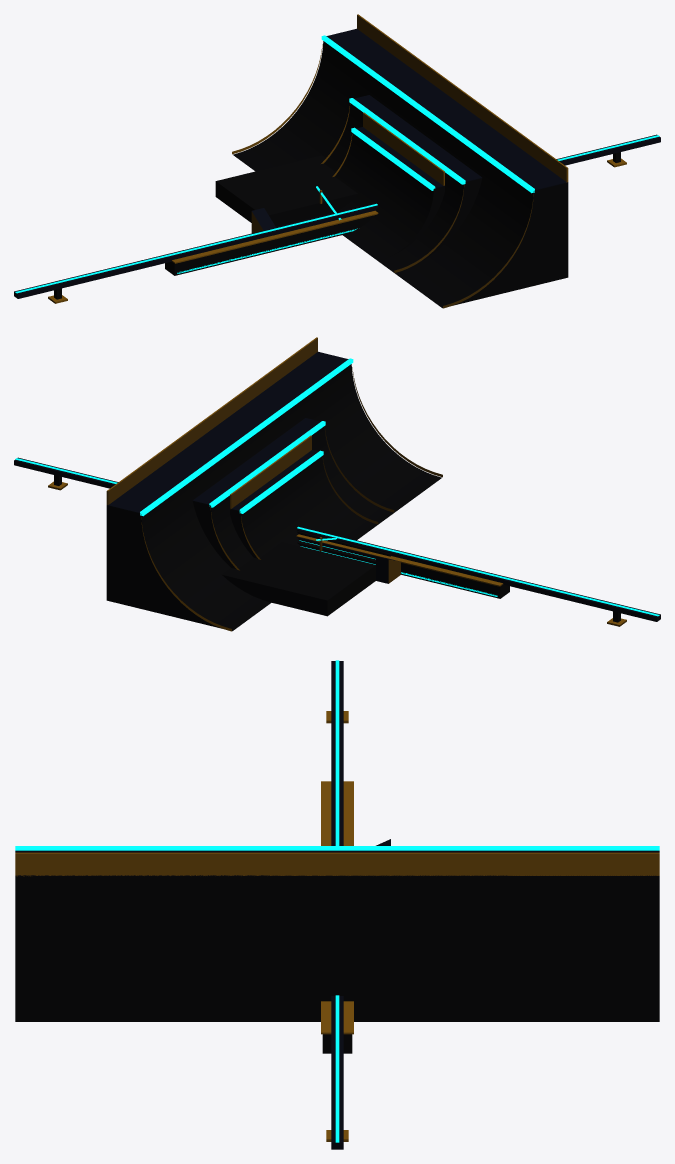
File: shaddai_hoverskate_kit_v01.glb
3 renders of one model, top to bottom at view 1: azimuth 30°, elevation 25°; view 2: azimuth 150°, elevation 25°; view 3: azimuth 270°, elevation 25°, orthographic. The views are drawn at different scales.
Parts seen in each view (by area): view 1: park_bank_26, park_kicker_10, park_spine_bank_14, park_stair_set, park_magnet_rail, park_ledge; view 2: park_bank_26, park_kicker_10, park_stair_set, park_spine_bank_14, park_magnet_rail, park_ledge; view 3: park_bank_26, park_magnet_rail, park_ledge.
Boxes of the visible parts, x1=… form: park_bank_26: x1=232, y1=14, x2=568, y2=308; park_kicker_10: x1=332, y1=112, x2=444, y2=260; park_spine_bank_14: x1=321, y1=95, x2=482, y2=272; park_stair_set: x1=215, y1=155, x2=357, y2=233; park_magnet_rail: x1=14, y1=134, x2=660, y2=303; park_ledge: x1=165, y1=210, x2=378, y2=275; park_bank_26: x1=106, y1=337, x2=442, y2=631; park_kicker_10: x1=230, y1=435, x2=378, y2=559; park_stair_set: x1=221, y1=531, x2=400, y2=616; park_spine_bank_14: x1=192, y1=418, x2=394, y2=570; park_magnet_rail: x1=14, y1=457, x2=660, y2=626; park_ledge: x1=296, y1=534, x2=509, y2=598; park_bank_26: x1=15, y1=846, x2=659, y2=1021; park_magnet_rail: x1=326, y1=660, x2=348, y2=1149; park_ledge: x1=321, y1=781, x2=353, y2=1053.
Size of the model in its own units: 46 by 7.5 by 26.12.
